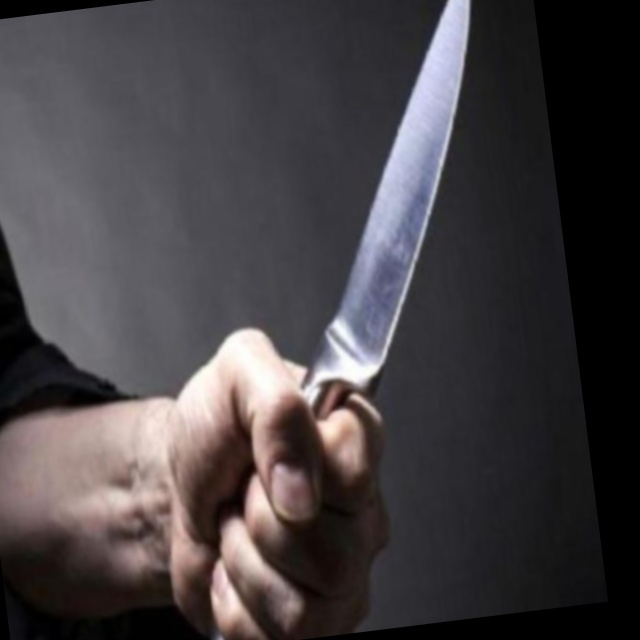Sharp-Object: (248, 0, 523, 421)
